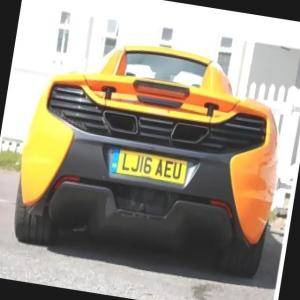Plate: (111, 151, 188, 185)
